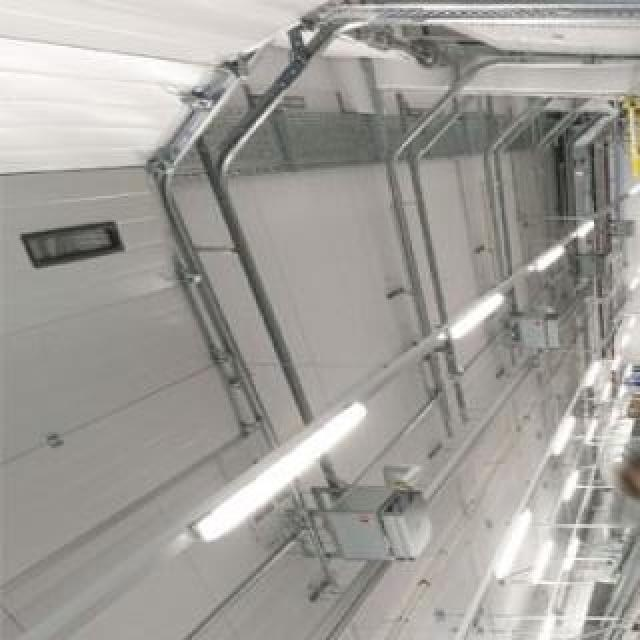fluorescent tube: (140, 402, 380, 607), (463, 507, 541, 604), (423, 287, 513, 365), (518, 233, 582, 287), (511, 538, 562, 602), (543, 462, 593, 518), (578, 345, 618, 411), (542, 409, 580, 476), (520, 600, 572, 640)
